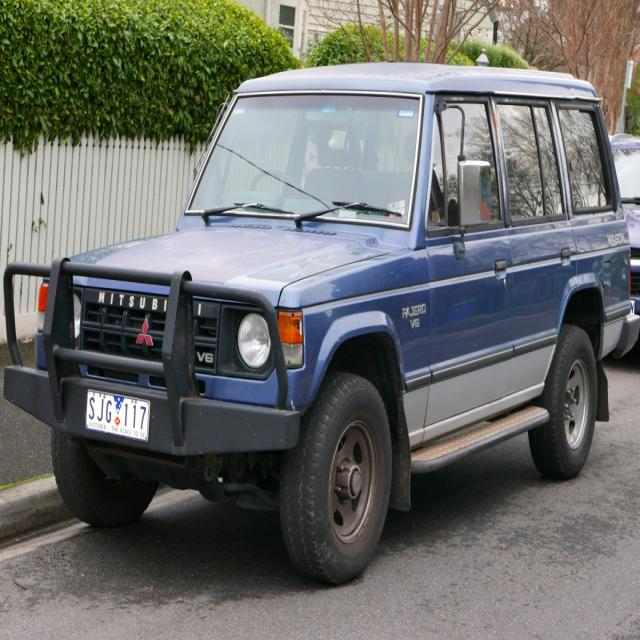light_vehicle: (2, 56, 639, 585)
